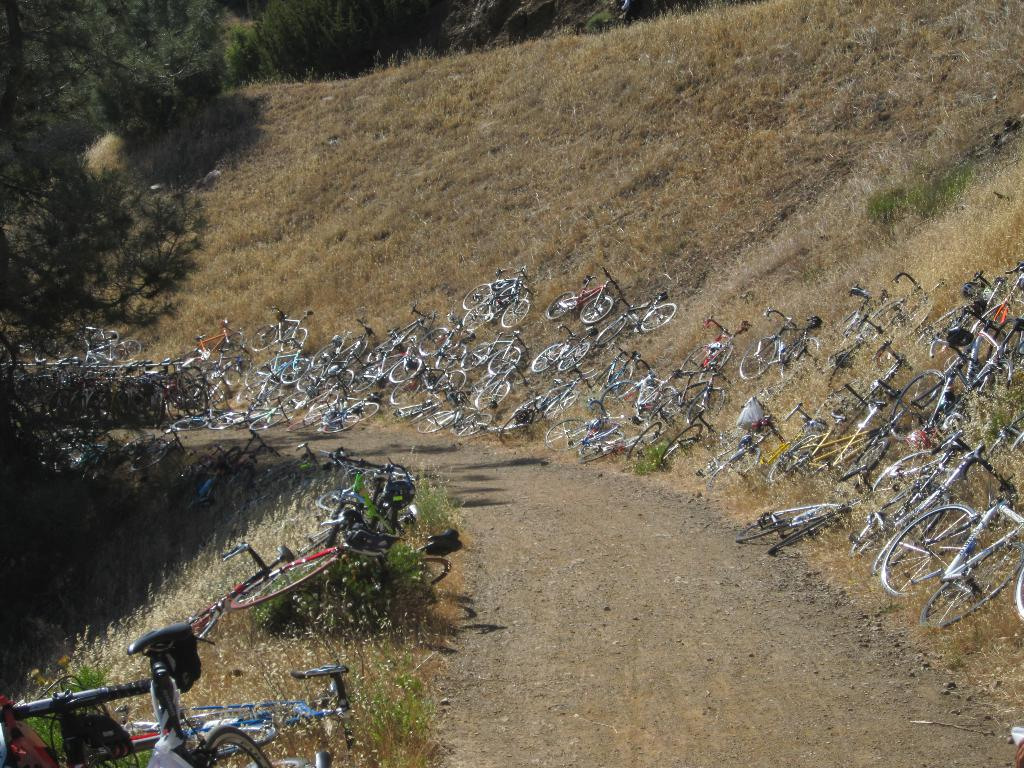Tree: (1, 1, 389, 358)
